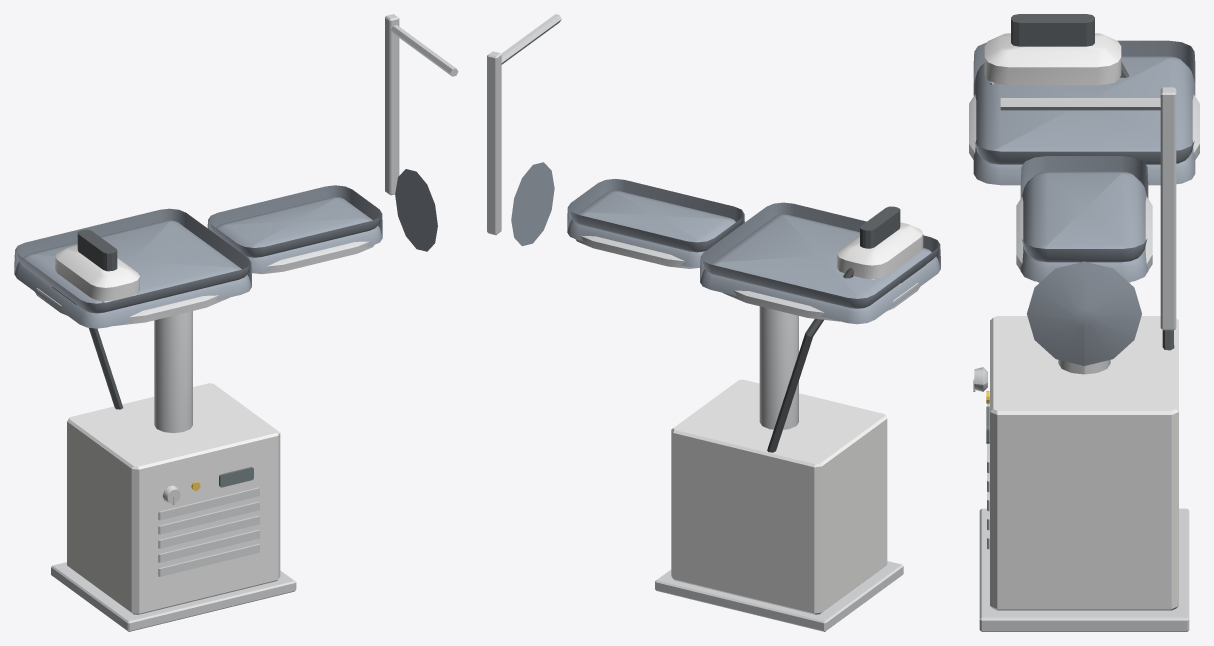
File: laundrette-and-cleaning-ironing-station-aabf22e4__25538.glb
3 views of the same model, side by side, from view 1: azimuth 30°, elevation 25°; view 2: azimuth 150°, elevation 25°; view 3: azimuth 270°, elevation 25° (orthographic). The views are drawn at different scales.
Visible parts, largest first — view 1: ironing-station; view 2: ironing-station; view 3: ironing-station.
Boxes of the visible parts, bbox=[...] form: ironing-station: bbox=[14, 14, 458, 631]; ironing-station: bbox=[487, 14, 940, 631]; ironing-station: bbox=[969, 14, 1199, 631].
Size of the model in its own units: 1.13 by 1.37 by 0.4401.
